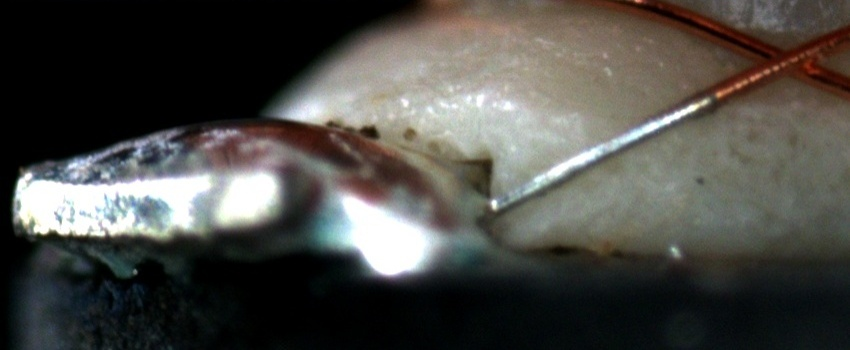CL: (737, 29, 838, 89)
TS: (488, 89, 716, 215)
